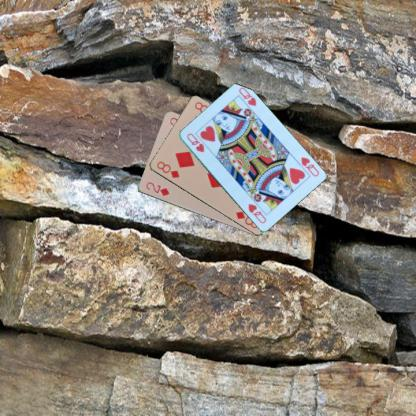2d: (143, 180, 172, 198)
8d: (154, 158, 180, 180)
Qh: (184, 130, 206, 154), (298, 154, 320, 178)
